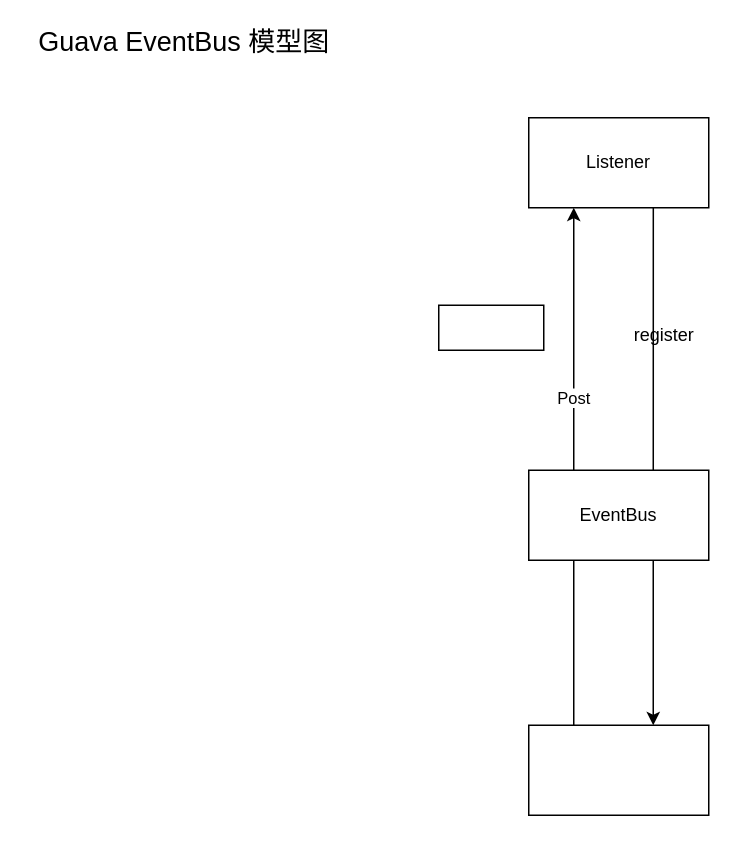
Some shapes in this 735 by 842 pixel diagram are drawn without their labels. Here are the shapes that lost their labels. From the top down, the centre of each, then its label:
At pixel 490 327: "Event".
At pixel 618 769: "EventPark".
